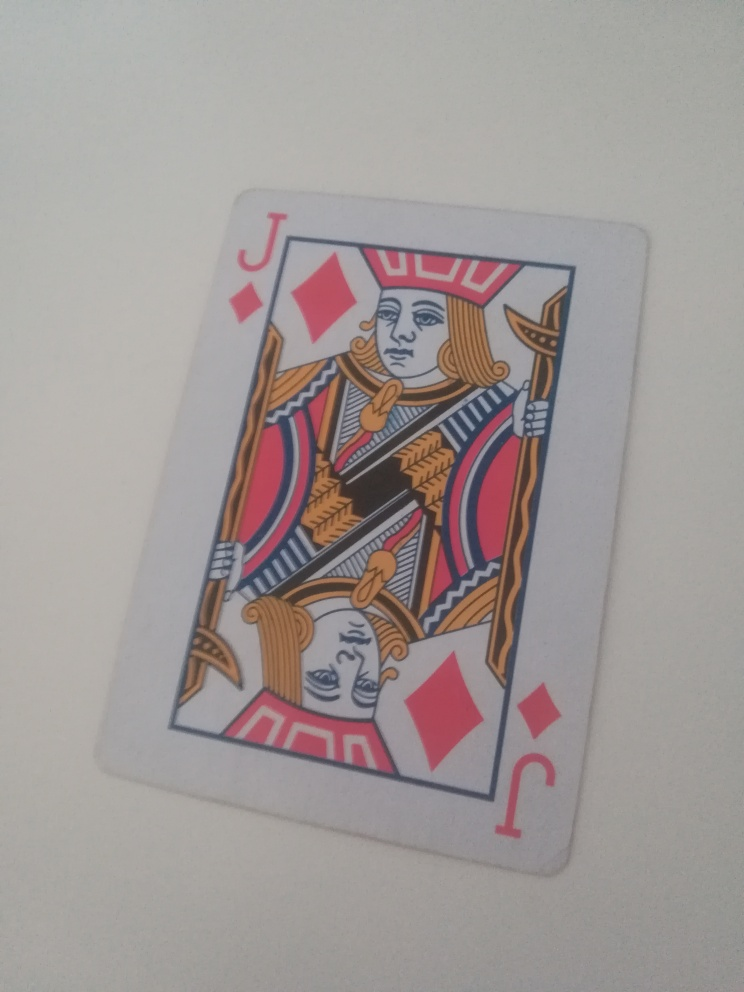JD: (221, 202, 297, 328)
